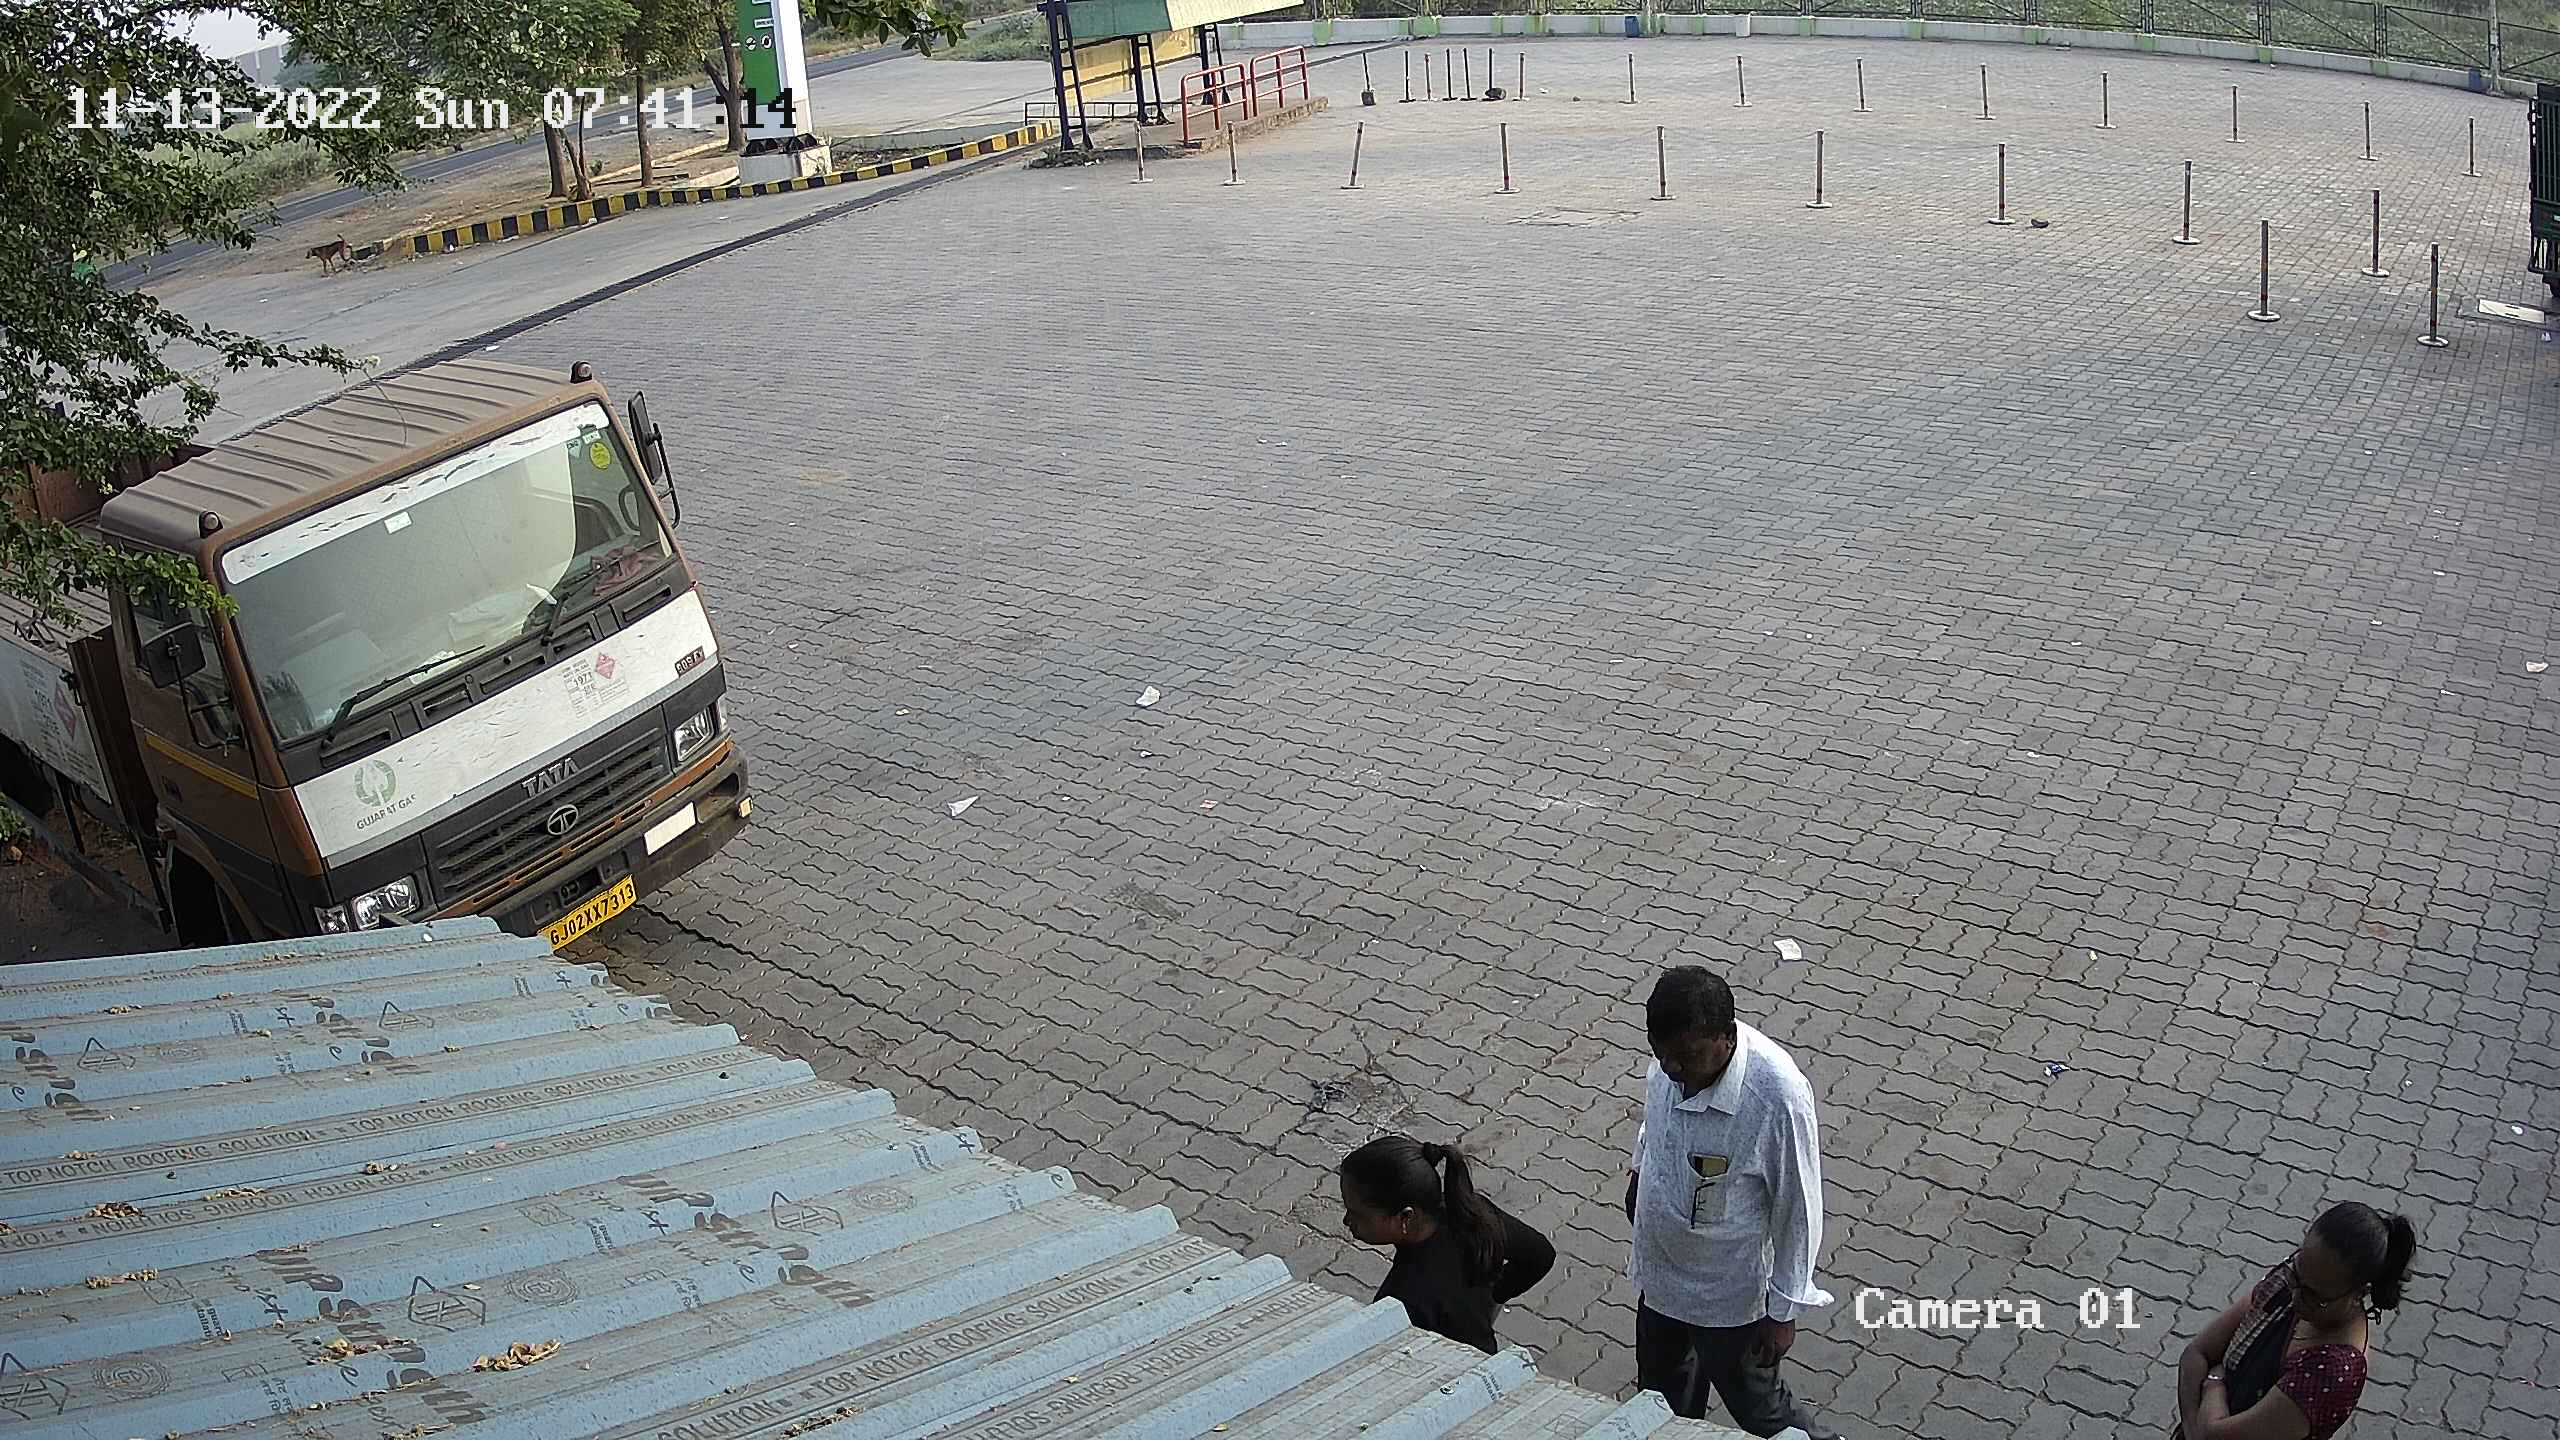Auto: (2514, 53, 2558, 320)
HMV: (2, 345, 774, 960)
